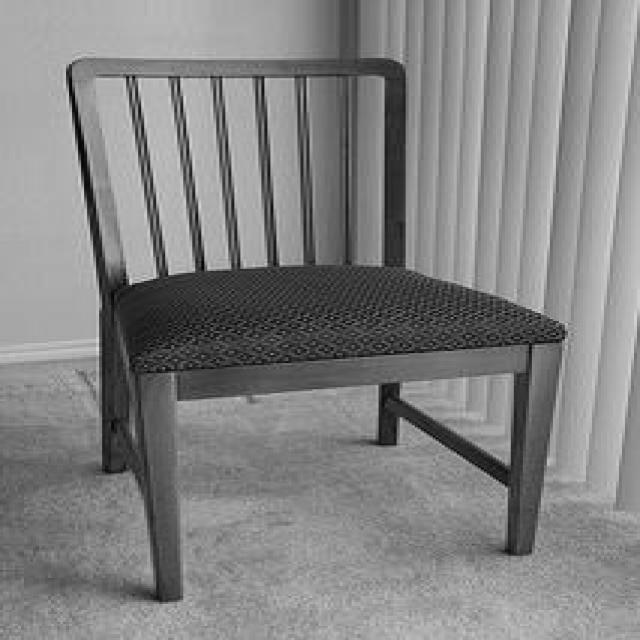chair: (62, 57, 570, 600)
